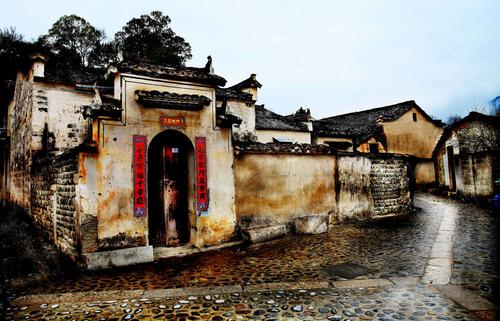buildings: (226, 88, 477, 222)
